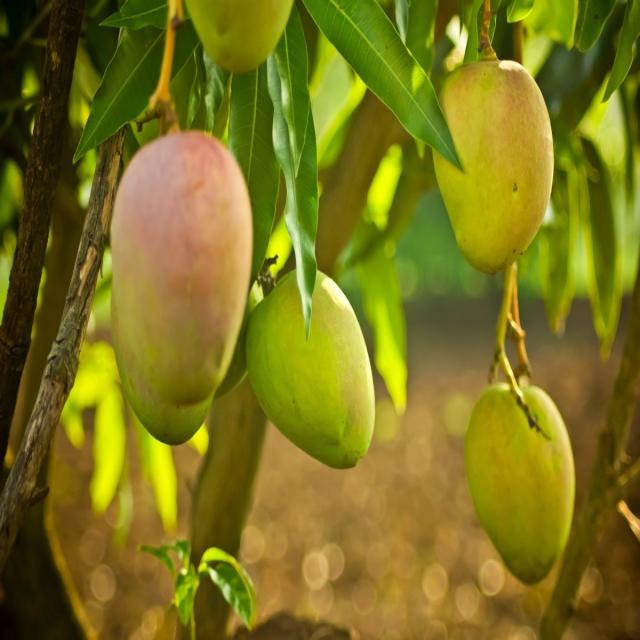mango: (103, 120, 254, 450), (243, 243, 382, 474), (463, 363, 597, 590), (432, 40, 564, 266)
